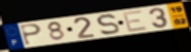2: (73, 16, 96, 39)
3: (148, 7, 169, 29)
8: (47, 21, 67, 41)
E: (121, 9, 149, 33)
P: (19, 23, 43, 46)
S: (95, 13, 121, 36)
